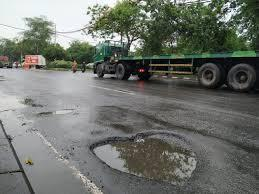Pothole: (74, 126, 225, 194), (32, 107, 84, 121), (20, 93, 48, 113)
